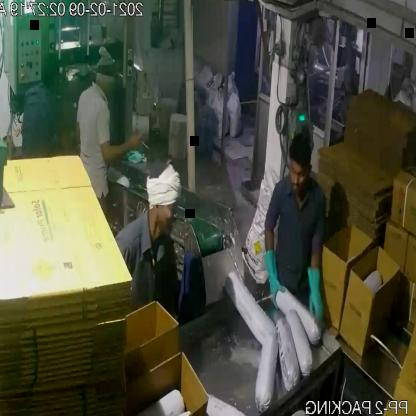glove: (260, 242, 288, 316), (304, 262, 329, 328)
no_glove: (96, 114, 150, 174)
